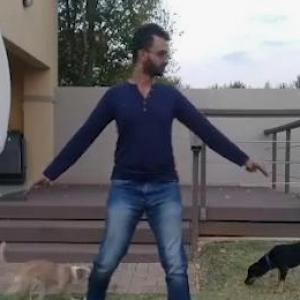land: (26, 5, 258, 298)
